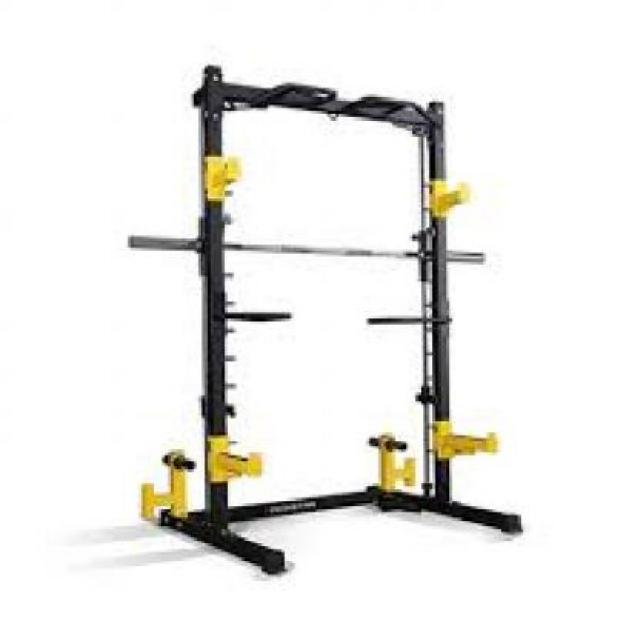smith machine: (129, 63, 525, 579)
